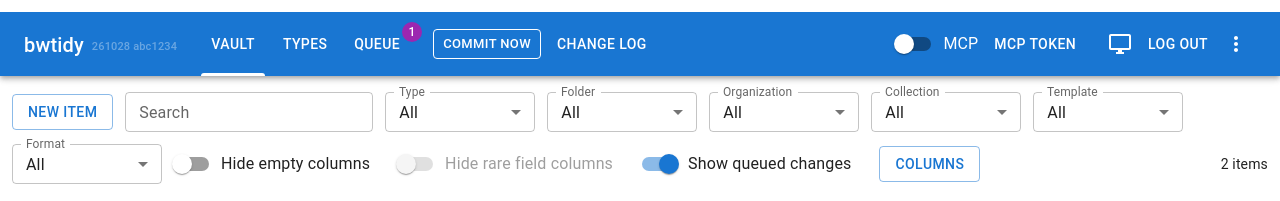
Scenario: the Queue button tooltip explains its number: UI edits only
This screenshot has width=1280, height=201.
Hover over the button with aria-label "Queue, 1 unsaved edits" at (377, 44), box [345,12,409,76]
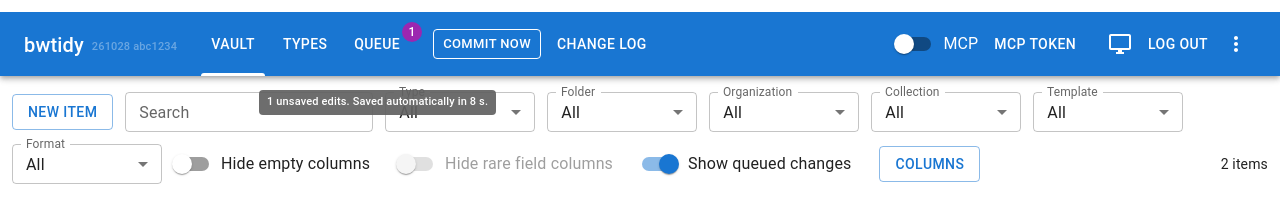
Expected: the tooltip reads "1 unsaved edits. Saved automatically in 8 s.", [267,95,488,108]
